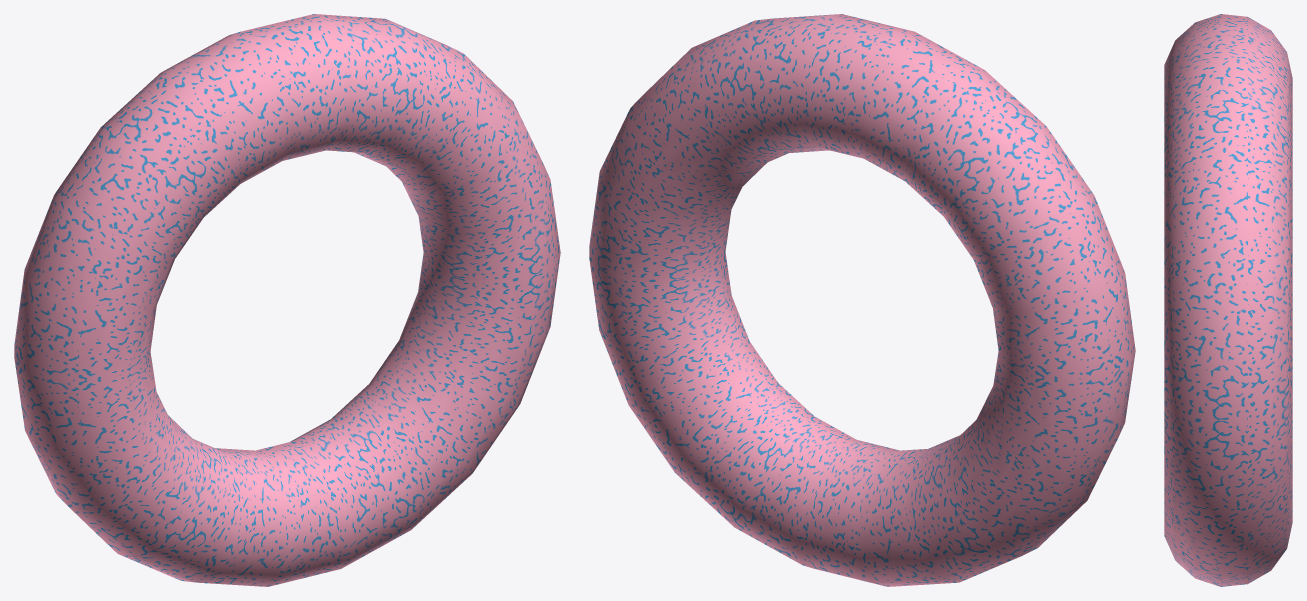
The model's file is M_arche_04.fbx.
3 views of the same model, side by side, from view 1: azimuth 30°, elevation 25°; view 2: azimuth 150°, elevation 25°; view 3: azimuth 270°, elevation 25° (orthographic). The views are drawn at different scales.
Visible parts, largest first — view 1: Plane.004; view 2: Plane.004; view 3: Plane.004.
Part boxes in pixels (bbox=[...]): Plane.004: bbox=[14, 14, 560, 586]; Plane.004: bbox=[589, 14, 1135, 586]; Plane.004: bbox=[1164, 14, 1292, 586].
Size of the model in its own units: 469 by 463 by 105.
